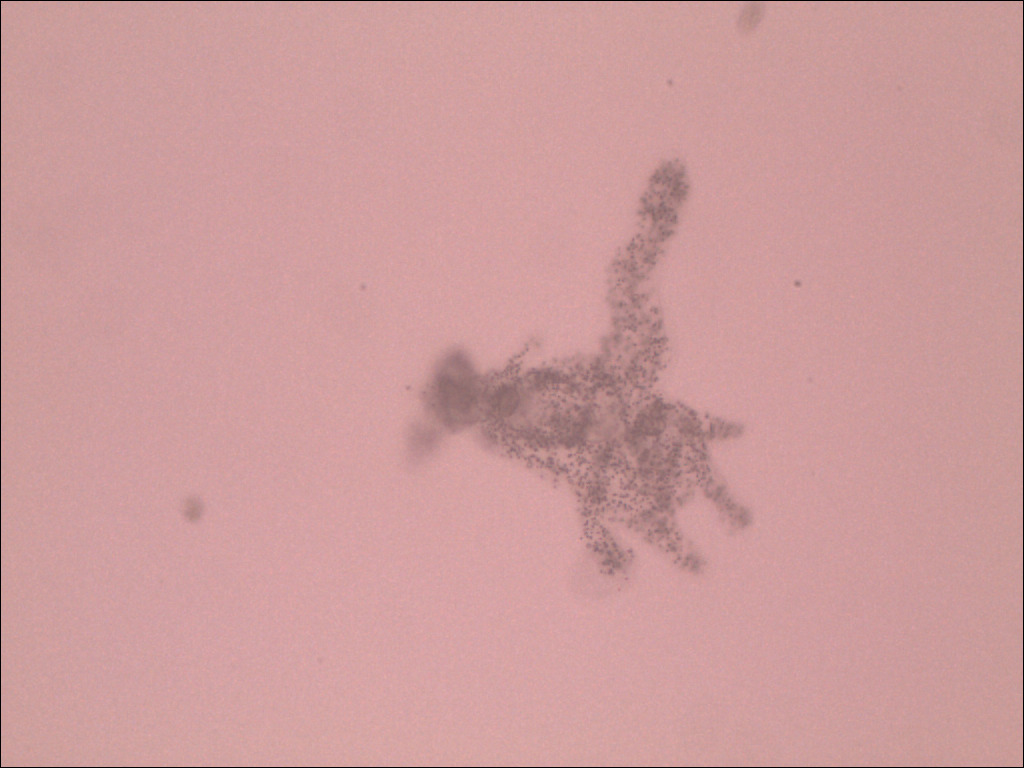amoeba: (407, 150, 776, 595)
